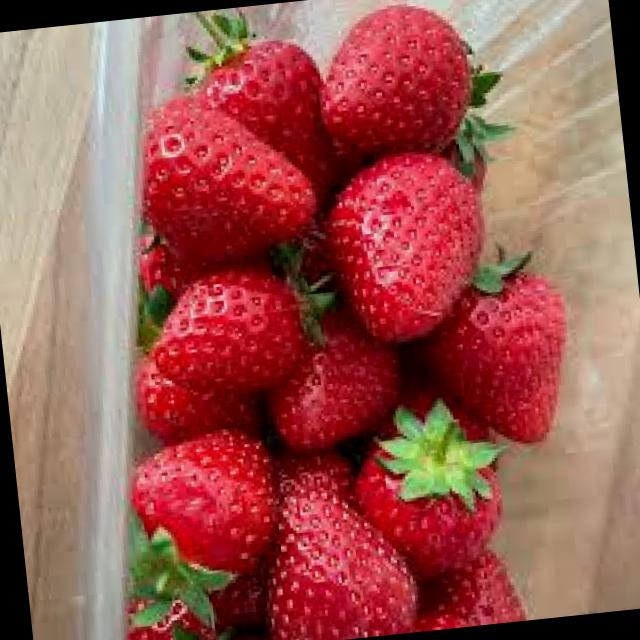strawberry: (304, 132, 530, 360), (127, 82, 324, 274), (424, 252, 596, 459), (251, 458, 419, 640), (343, 402, 512, 578), (308, 0, 481, 169), (124, 425, 285, 586)
